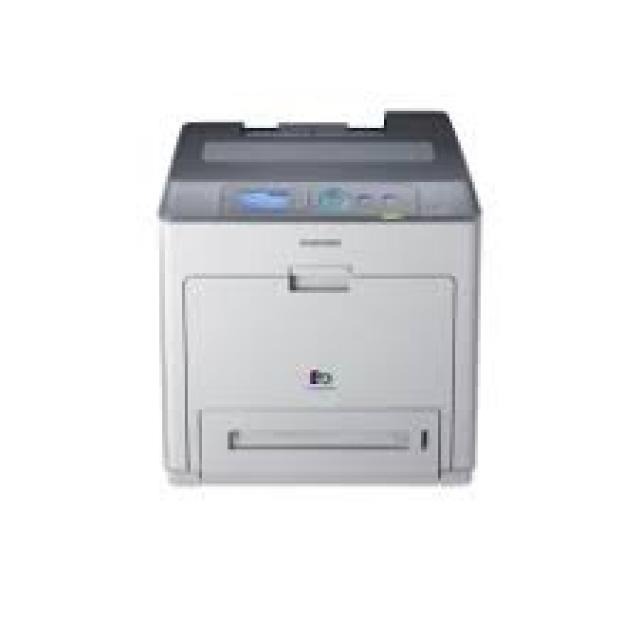printer: (156, 108, 483, 488)
